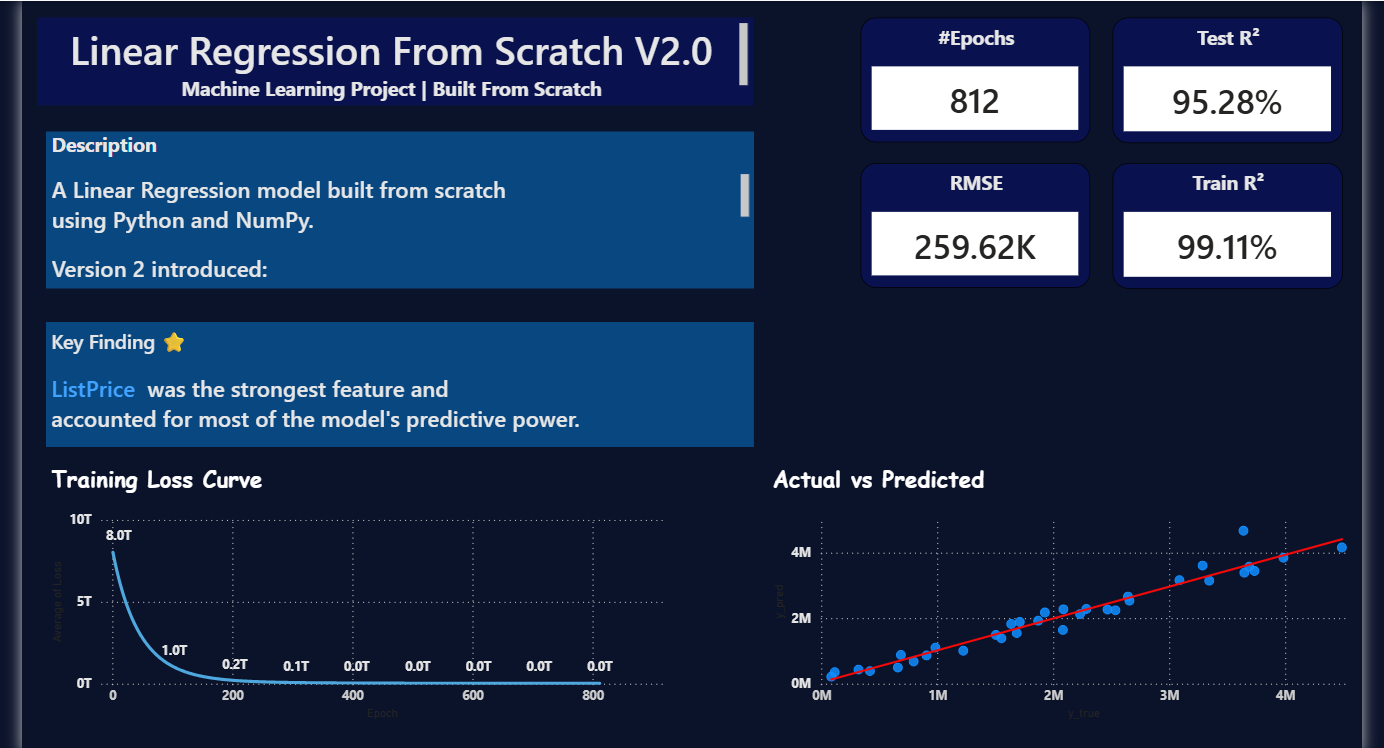

What the dashboard file says about the page in this screenshot:
{"tool":"powerbi","page":{"name":"Model Dashboard","canvas":[1280,720],"ordinal":0},"visuals":[{"type":"textbox","box":[14.3,15.9,684,84.3],"z":0},{"type":"lineChart","title":"Training Loss Curve","fields":{"Category":["losses.Epoch"],"Y":["Avg(losses.Loss)"]},"box":[22.3,440.6,594.9,249.7],"z":1000},{"type":"scatterChart","title":"Actual vs Predicted","fields":{"X":["predictions.y_true"],"Y":["predictions.y_pred"]},"box":[712.6,440.6,567.8,249.7],"z":5000},{"type":"textbox","title":"Description","box":[22.3,124.1,676,149.5],"z":6000},{"type":"cardVisual","title":"Test R²","fields":{"Data":["Sum(metrics.r2_test)"]},"box":[1041.9,15.9,220,120],"z":6500},{"type":"cardVisual","title":"Train R²","fields":{"Data":["Sum(metrics.r2_train)"]},"box":[1041.9,154.3,220,120],"z":6750},{"type":"cardVisual","title":"RMSE","fields":{"Data":["Sum(metrics.rmse)"]},"box":[800.1,154.3,219.5,119.3],"z":6875},{"type":"textbox","box":[22.3,307,676,119.3],"z":7000},{"type":"cardVisual","title":"#Epochs","fields":{"Data":["losses.#Epoch"]},"box":[800.1,15.9,219.5,108.2],"z":8000}]}

Visuals, with their boxes on the page's 1280x720 design canvas (x1, y1, x2, y2). These are canvas units, not pixel positions in the 1384x748 screenshot, which may show the page scaled, cropped or inside an application window:
textbox: locate(14, 16, 698, 100)
"Training Loss Curve" lineChart: locate(22, 441, 617, 690)
"Actual vs Predicted" scatterChart: locate(713, 441, 1280, 690)
"Description" textbox: locate(22, 124, 698, 274)
"Test R²" cardVisual: locate(1042, 16, 1262, 136)
"Train R²" cardVisual: locate(1042, 154, 1262, 274)
"RMSE" cardVisual: locate(800, 154, 1020, 274)
textbox: locate(22, 307, 698, 426)
"#Epochs" cardVisual: locate(800, 16, 1020, 124)
